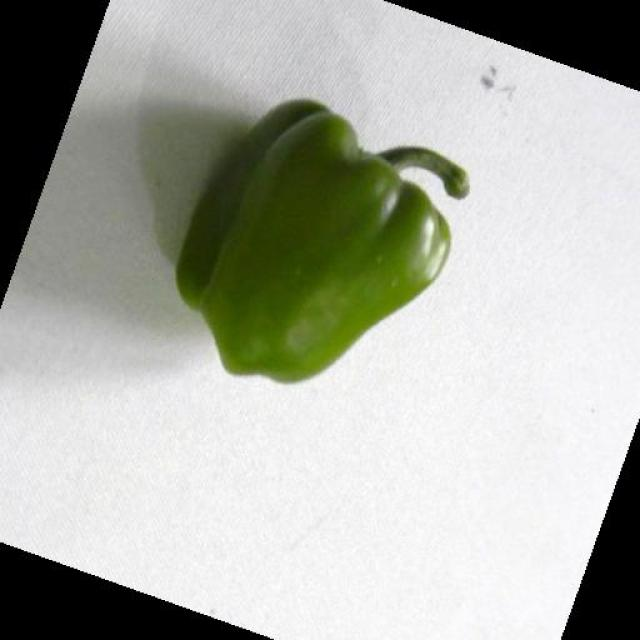Fresh_Capsicum: (171, 70, 457, 382)
